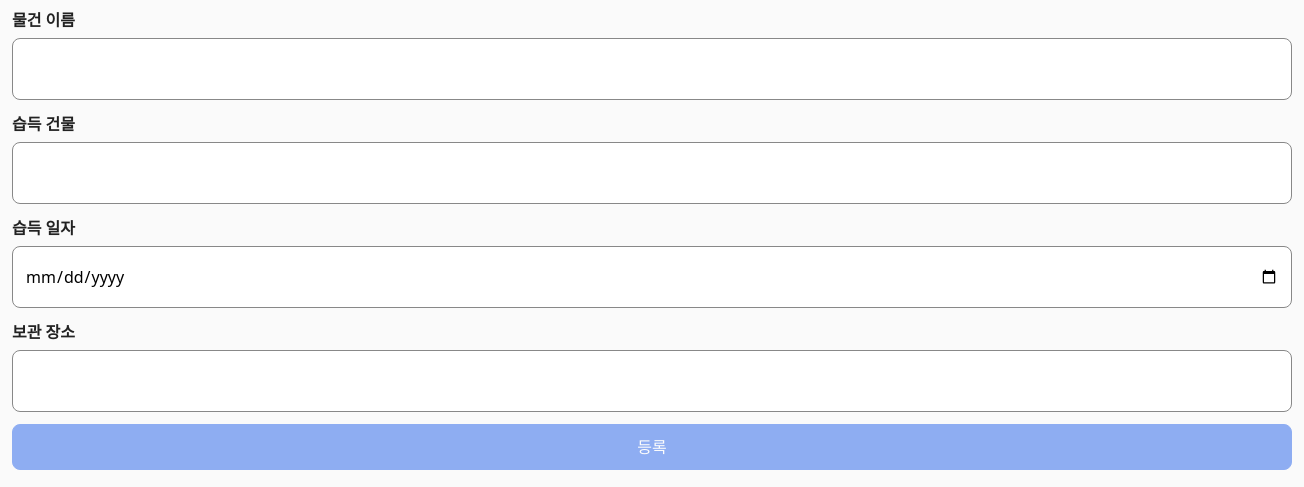
Scenario: ItemForm › 이름이나 건물이 비어 있으면 등록 버튼이 비활성화된다
The image size is (1304, 487).
Expected: the button "등록" is disabled, [12,424,1292,470]
Type "지갑" into the field labelled "물건 이름" at (652, 69), box [12,38,1292,100]
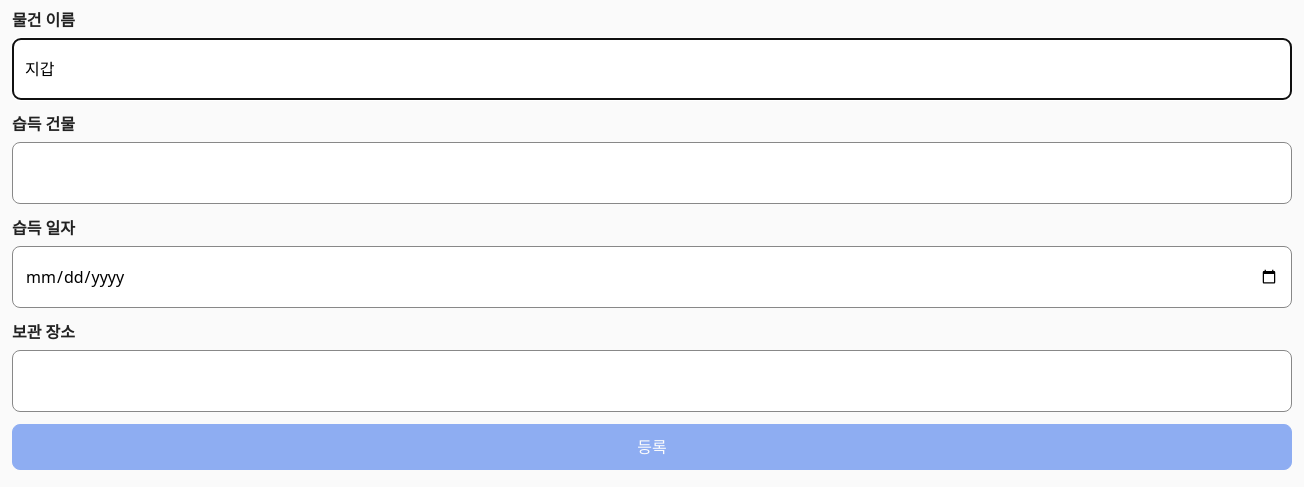
Expected: the button "등록" is disabled, [12,424,1292,470]
Type "공학관" into the field labelled "습득 건물" at (652, 173), box [12,142,1292,204]
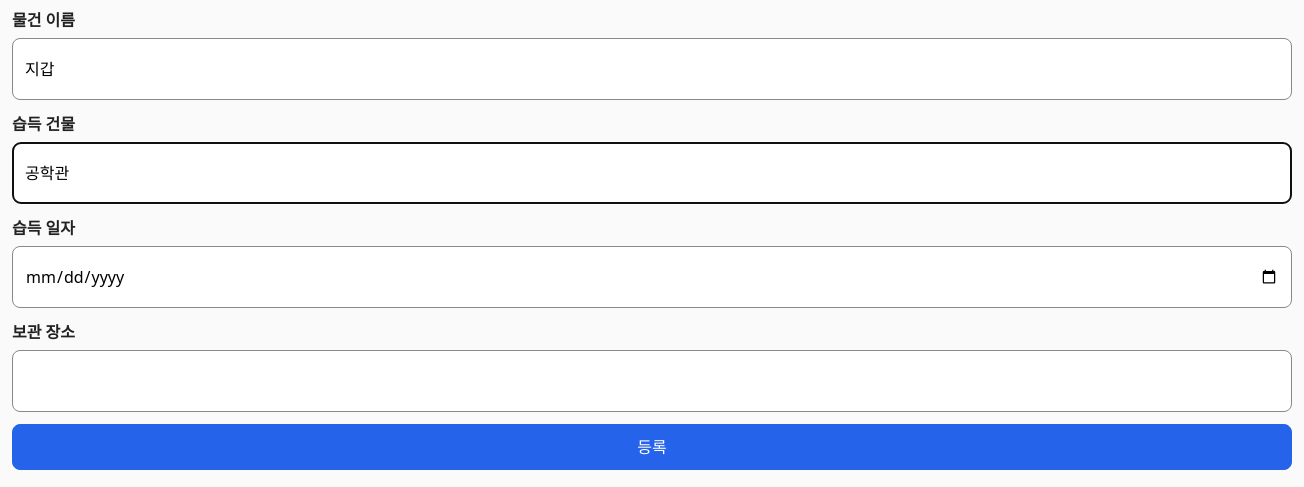
Expected: the button "등록" is enabled, [12,424,1292,470]
